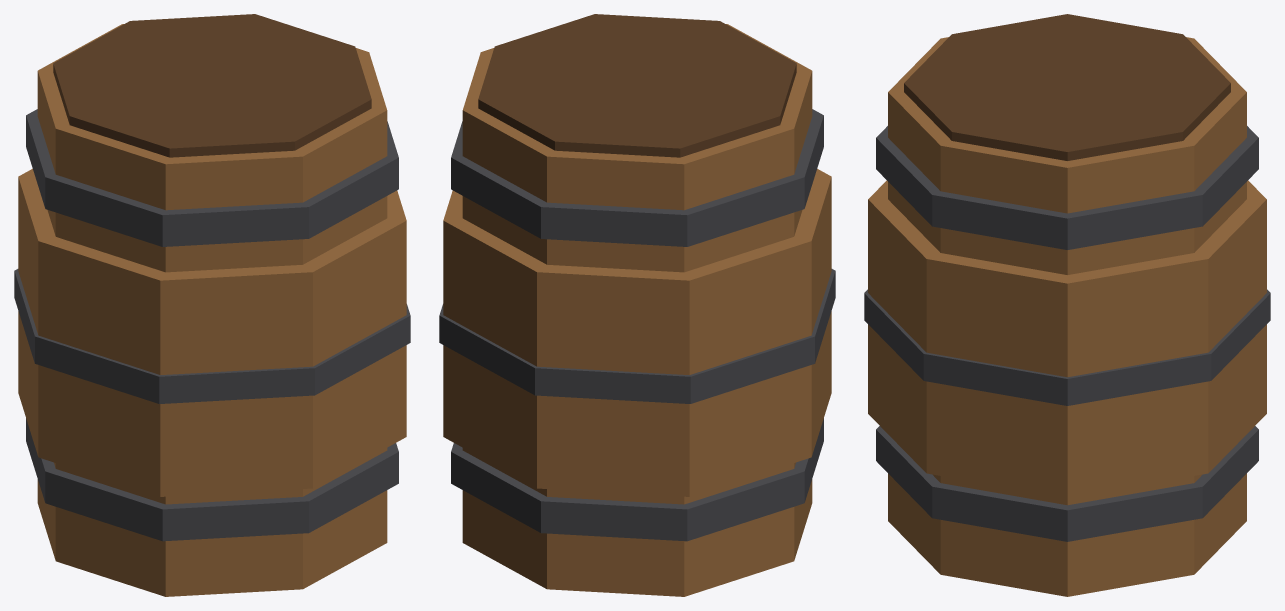
Rendered from barrel_1.glb.
3 views of the same model, side by side, from view 1: azimuth 30°, elevation 25°; view 2: azimuth 150°, elevation 25°; view 3: azimuth 270°, elevation 25° (orthographic).
Visible parts, largest first — view 1: barrel_1; view 2: barrel_1; view 3: barrel_1.
Boxes of the visible parts, bbox=[...] form: barrel_1: bbox=[14, 14, 410, 596]; barrel_1: bbox=[439, 14, 835, 596]; barrel_1: bbox=[864, 14, 1270, 596].
Size of what is drawn, in the model's own units: 0.816 by 0.97 by 0.816.
